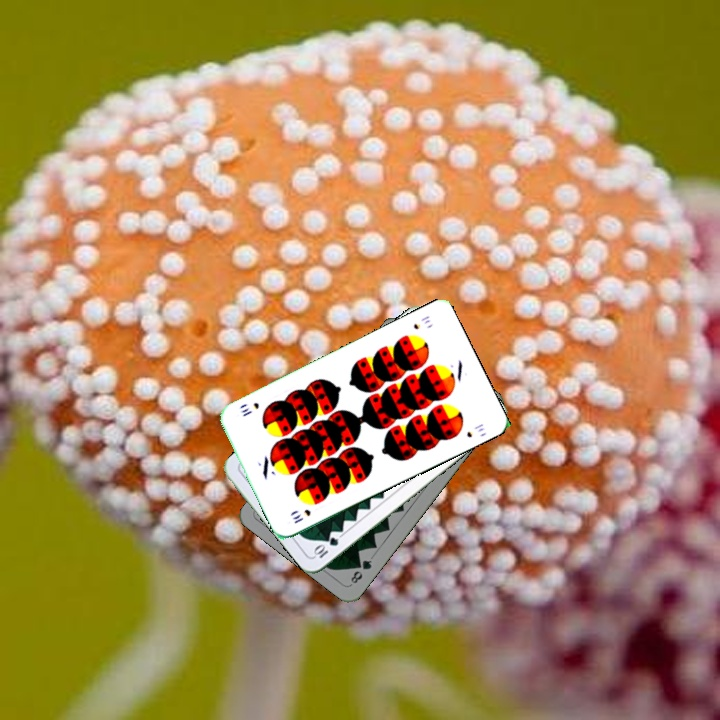G10: (310, 533, 341, 561)
G8: (346, 556, 374, 586)
S10: (288, 505, 313, 526), (409, 311, 433, 332)
